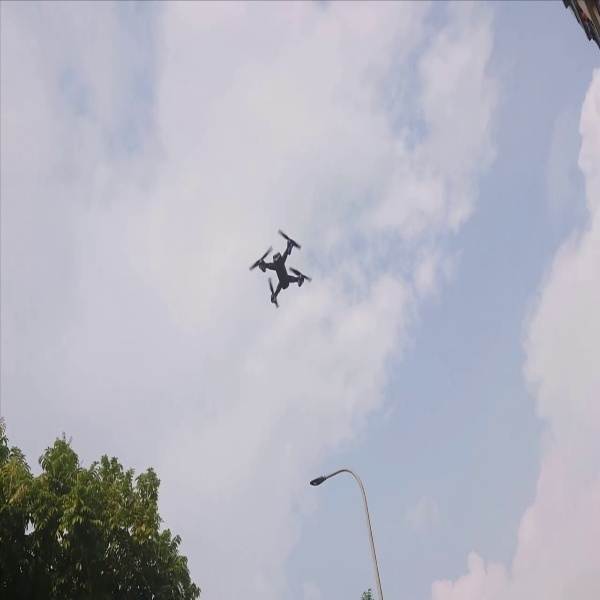drone: (236, 227, 322, 311)
